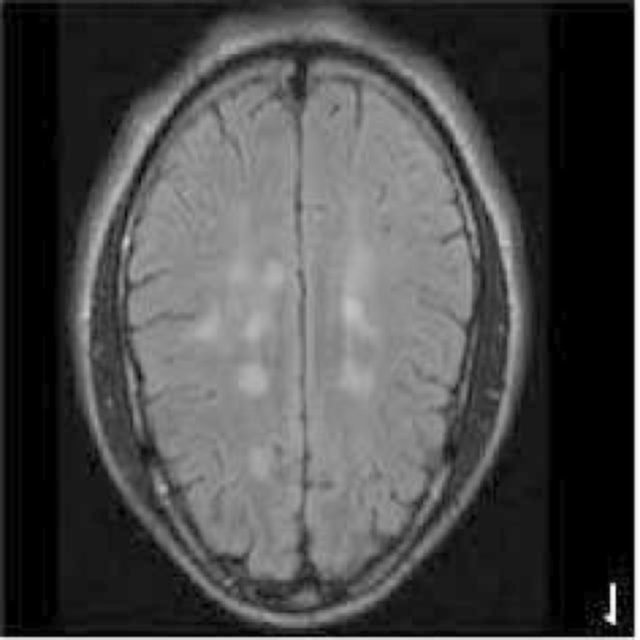glioma tumor: (141, 87, 426, 553)
